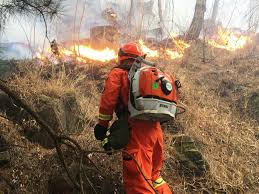fire: (73, 42, 116, 63)
smoke: (5, 42, 40, 60)
